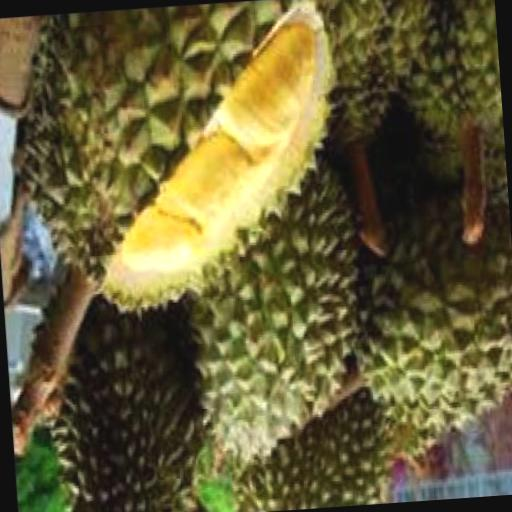biodegradable: (0, 0, 359, 453), (176, 150, 371, 479), (333, 204, 512, 443), (35, 291, 213, 512), (321, 0, 452, 262), (398, 0, 509, 249), (228, 402, 395, 512), (13, 436, 73, 512), (191, 438, 234, 512)
